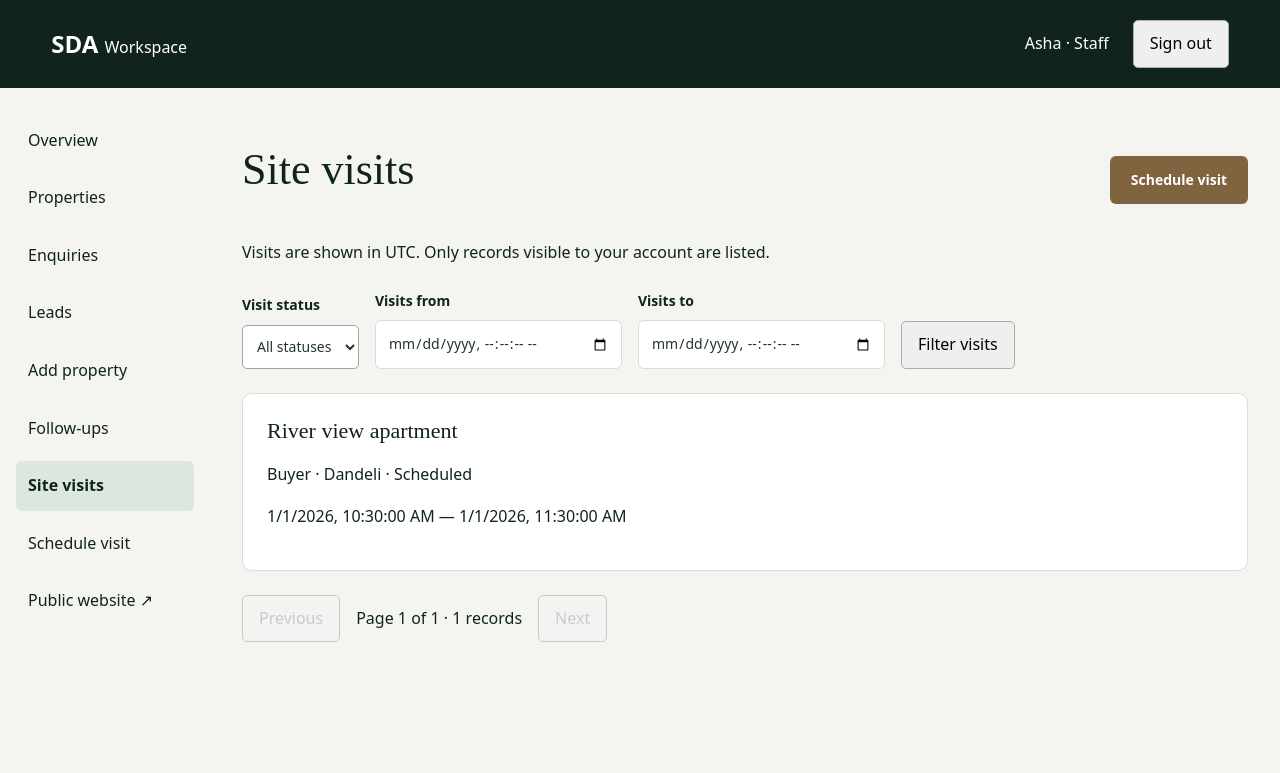
shows contact and audit history only after opening protected detail
Click the link "River view apartment". click: (362, 430)
box: top-left (267, 418), bottom-right (458, 443)
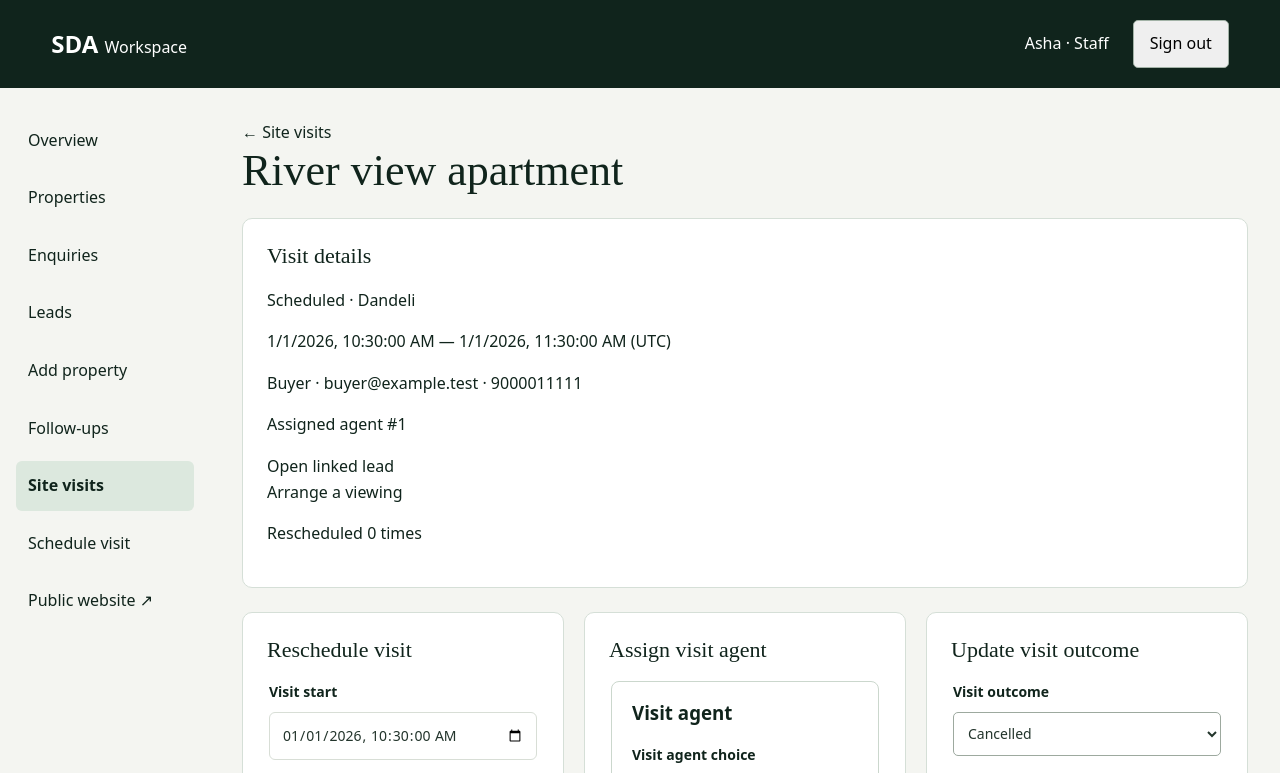
Expected: the text "Buyer · buyer@example.test · 9000011111" is shown, top-left (267, 372), bottom-right (582, 394)
